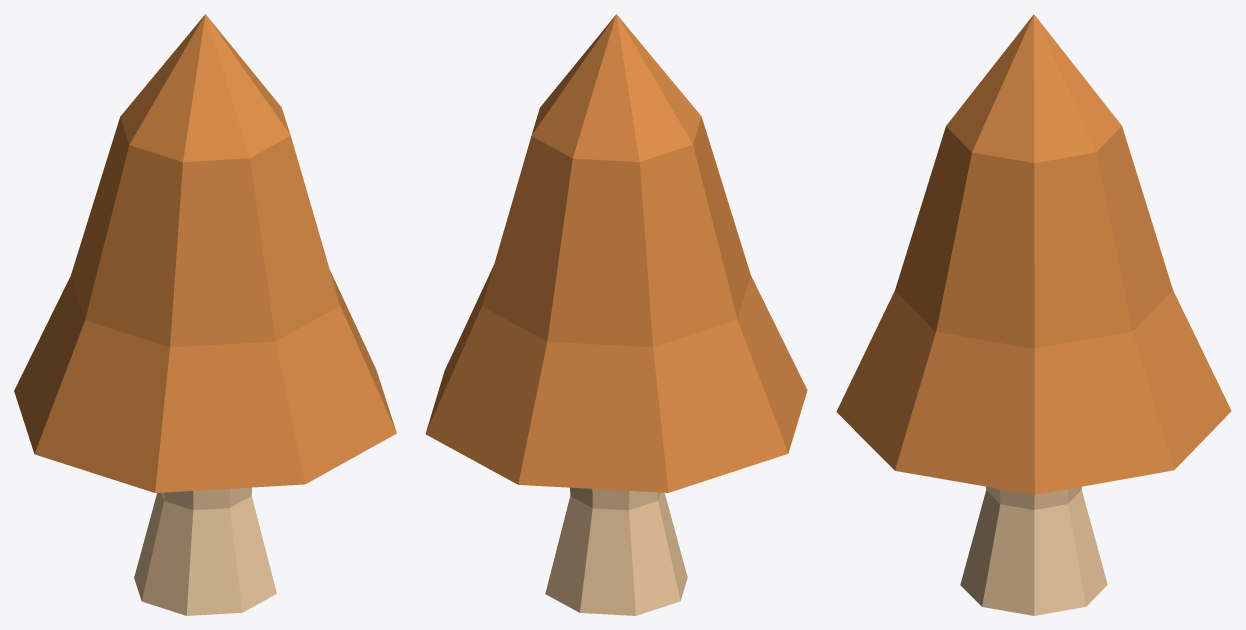
The model's file is mushroom-06.glb.
3 renders of one model, left to right at view 1: azimuth 30°, elevation 25°; view 2: azimuth 150°, elevation 25°; view 3: azimuth 270°, elevation 25°, orthographic.
Visible parts, largest first — view 1: Mushroom4_2; view 2: Mushroom4_2; view 3: Mushroom4_2.
Boxes of the visible parts, bbox=[...] form: Mushroom4_2: bbox=[14, 14, 396, 615]; Mushroom4_2: bbox=[425, 14, 807, 615]; Mushroom4_2: bbox=[836, 14, 1231, 615].
Size of the model in its own units: 0.8288 by 1.32 by 0.8288.
